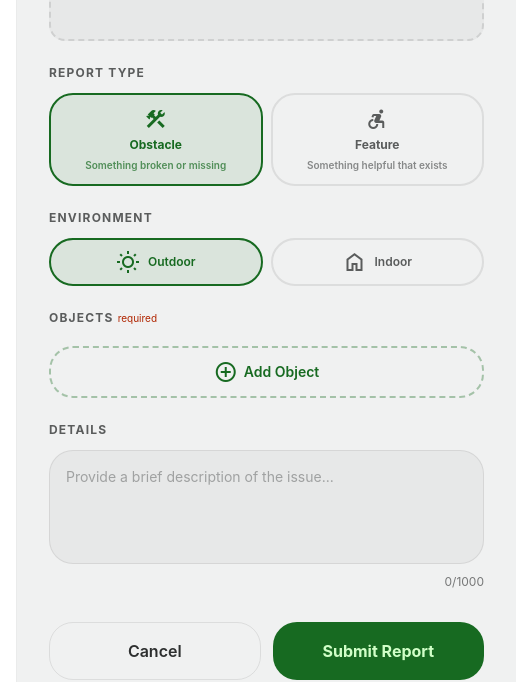
CreateReportPanel › form validation › shows error when submitting without a location
(page scrolled)
Click the button "Submit Report": [378, 650] box [272,622,484,680]
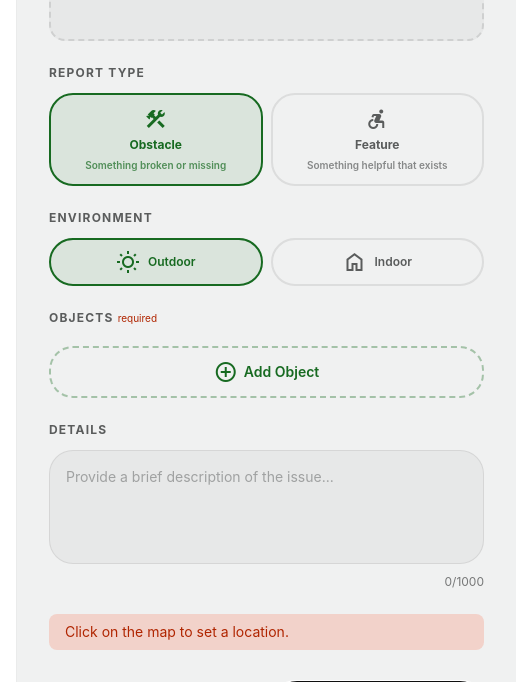
Now the text "Click on the map to set a location." is shown, box [49,614,484,650]
